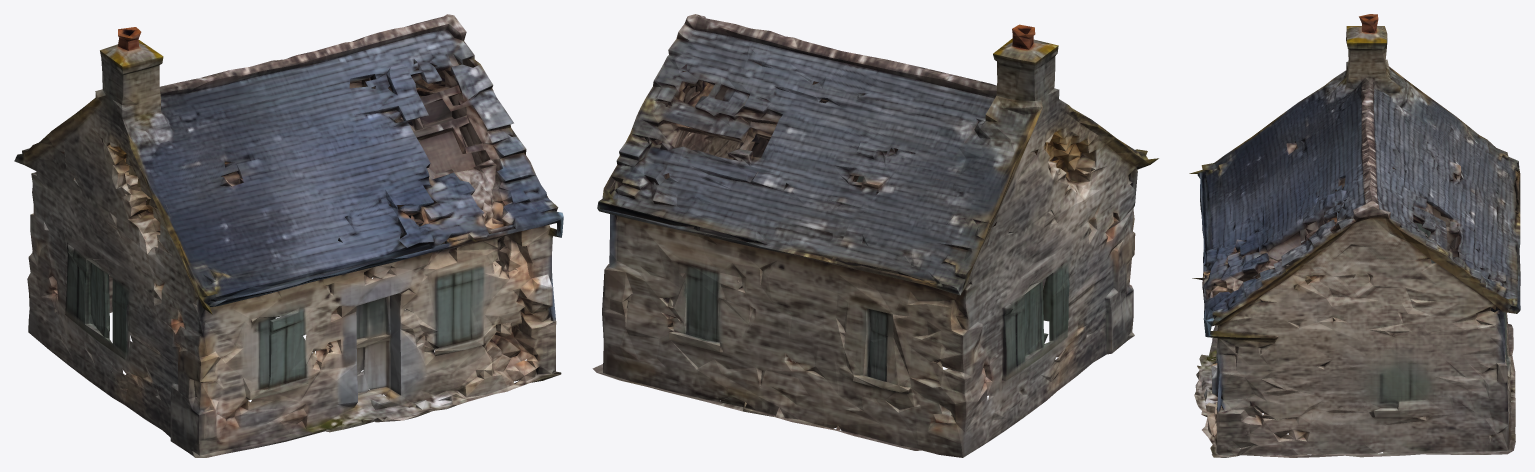
The model's file is cottage.glb.
3 views of the same model, side by side, from view 1: azimuth 30°, elevation 25°; view 2: azimuth 150°, elevation 25°; view 3: azimuth 270°, elevation 25° (orthographic). The views are drawn at different scales.
Parts seen in each view (by area): view 1: geometry_0; view 2: geometry_0; view 3: geometry_0.
Part boxes in pixels (x1,y1,x2,y2): geometry_0: [14, 14, 563, 457]; geometry_0: [592, 14, 1158, 457]; geometry_0: [1189, 14, 1520, 457].
Bounding box in the file's own units: 1 × 0.9453 × 0.9349.
1 material, 1 textured.
